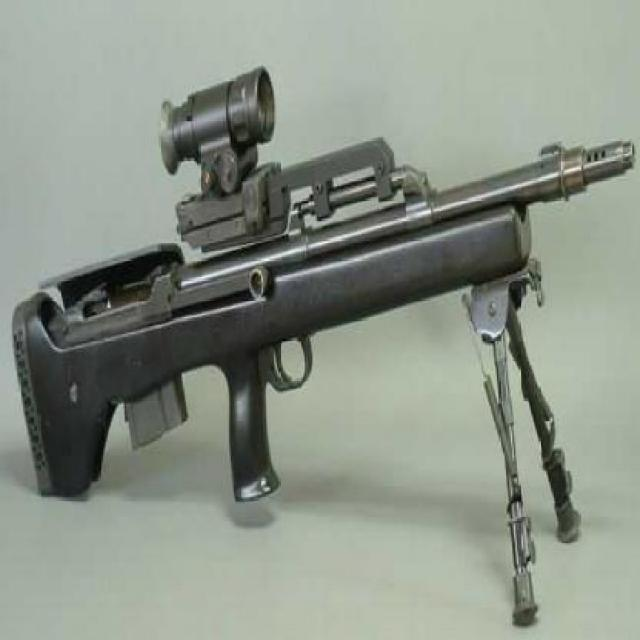weapon: (16, 70, 634, 626)
